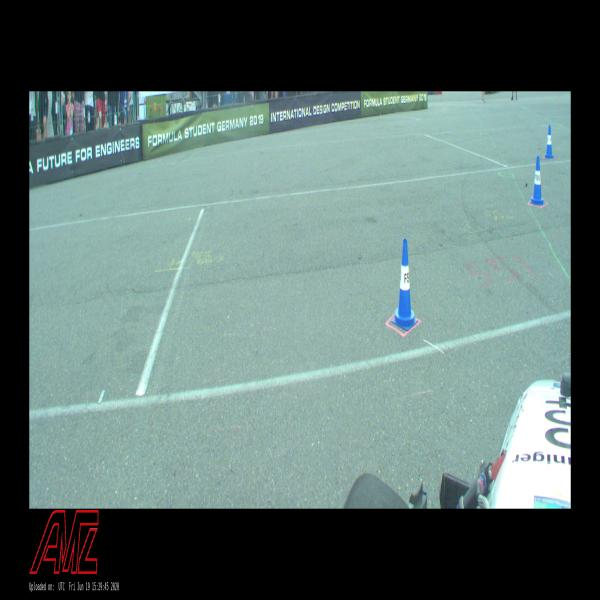blue_cone: (392, 238, 418, 330), (531, 156, 544, 205), (544, 126, 554, 157)
